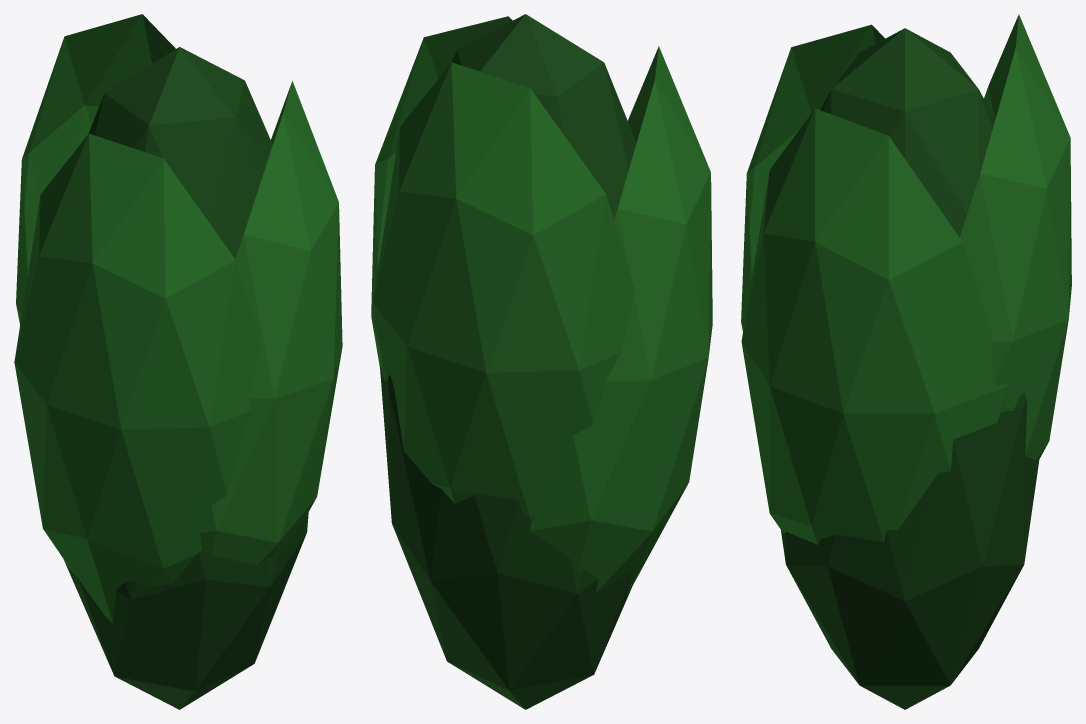
Rendered from Plant_1.fbx.
The picture shows the model from 3 angles, left to right: view 1: azimuth 30°, elevation 25°; view 2: azimuth 150°, elevation 25°; view 3: azimuth 270°, elevation 25°; orthographic projection. The views are drawn at different scales.
Parts seen in each view (by area): view 1: Icosphere.003, Icosphere, Icosphere.001, Icosphere.002; view 2: Icosphere.002, Icosphere, Icosphere.003, Icosphere.001; view 3: Icosphere.001, Icosphere, Icosphere.002, Icosphere.003.
Boxes of the visible parts, x1=… form: Icosphere.003: x1=14, y1=133, x2=260, y2=623; Icosphere: x1=63, y1=47, x2=308, y2=709; Icosphere.001: x1=200, y1=81, x2=342, y2=565; Icosphere.002: x1=16, y1=14, x2=175, y2=324; Icosphere.002: x1=373, y1=62, x2=635, y2=520; Icosphere: x1=379, y1=14, x2=636, y2=709; Icosphere.003: x1=529, y1=46, x2=712, y2=596; Icosphere.001: x1=371, y1=16, x2=512, y2=382; Icosphere.001: x1=741, y1=108, x2=1007, y2=544; Icosphere: x1=781, y1=28, x2=1039, y2=709; Icosphere.002: x1=959, y1=14, x2=1071, y2=459; Icosphere.003: x1=741, y1=24, x2=884, y2=331.
Bounding box in the file's own units: 236 × 511 × 225.
